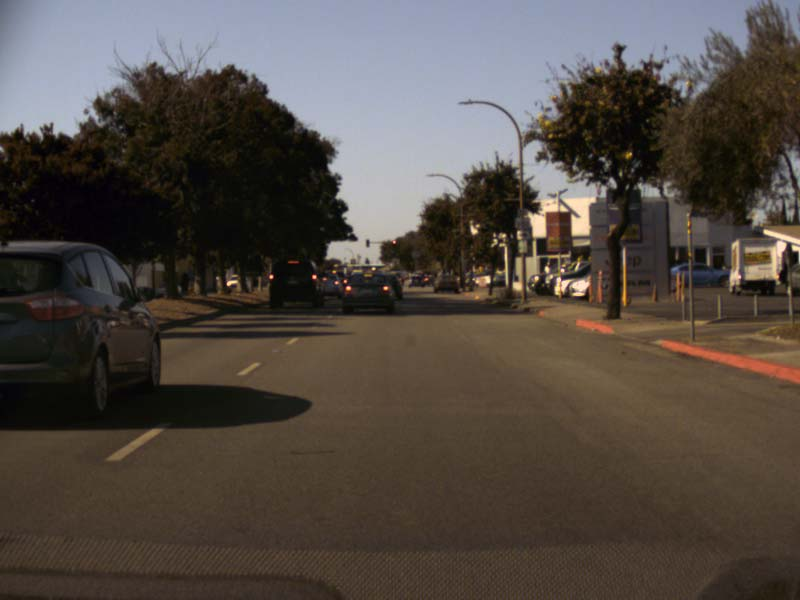Red: (392, 240, 396, 249)
